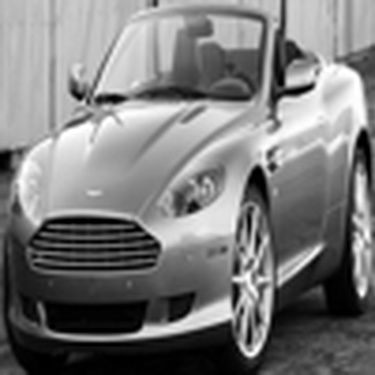car: (6, 4, 370, 369)
